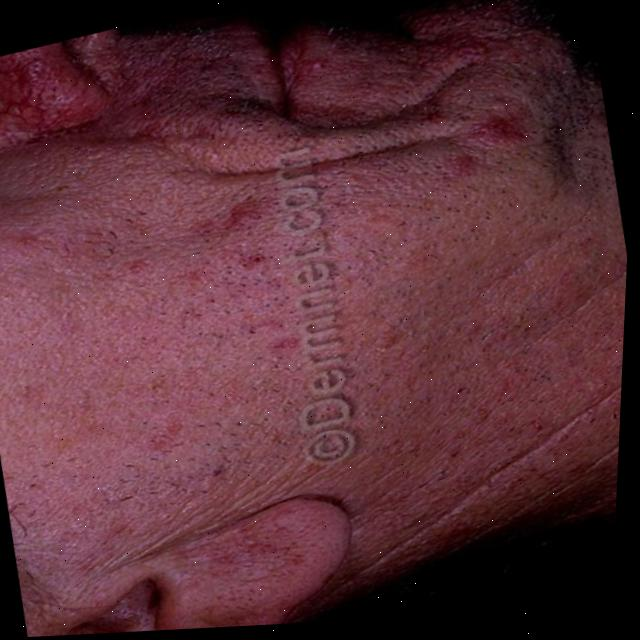Rosacea: (0, 34, 103, 151)
